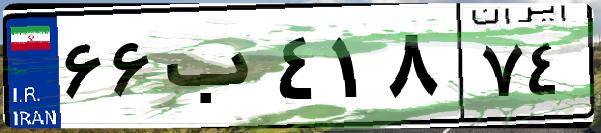1: (330, 28, 385, 110)
4: (270, 28, 330, 110), (525, 38, 570, 115)
6: (57, 26, 110, 100), (110, 28, 158, 98)
7: (475, 38, 525, 113)
8: (385, 28, 445, 110)
ب: (158, 20, 270, 120)
